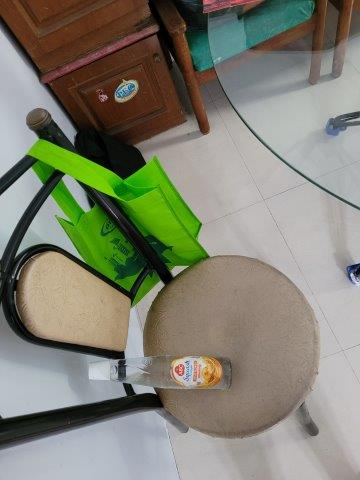botolkaca: (85, 355, 232, 389)
